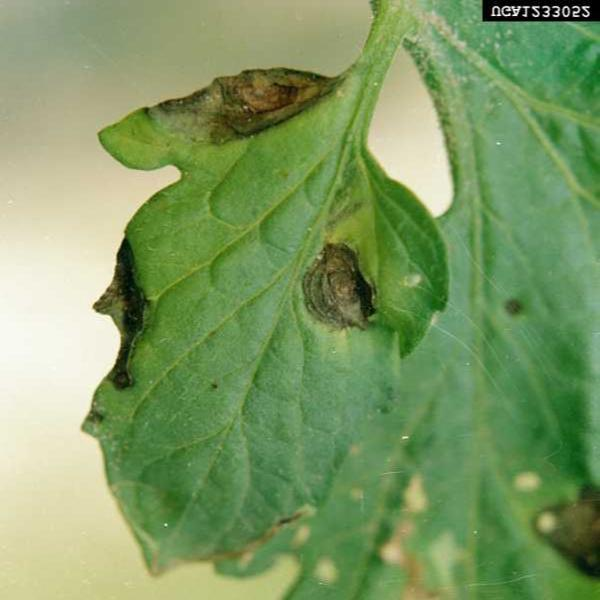Tomato leaf late blight: (69, 17, 487, 589)
